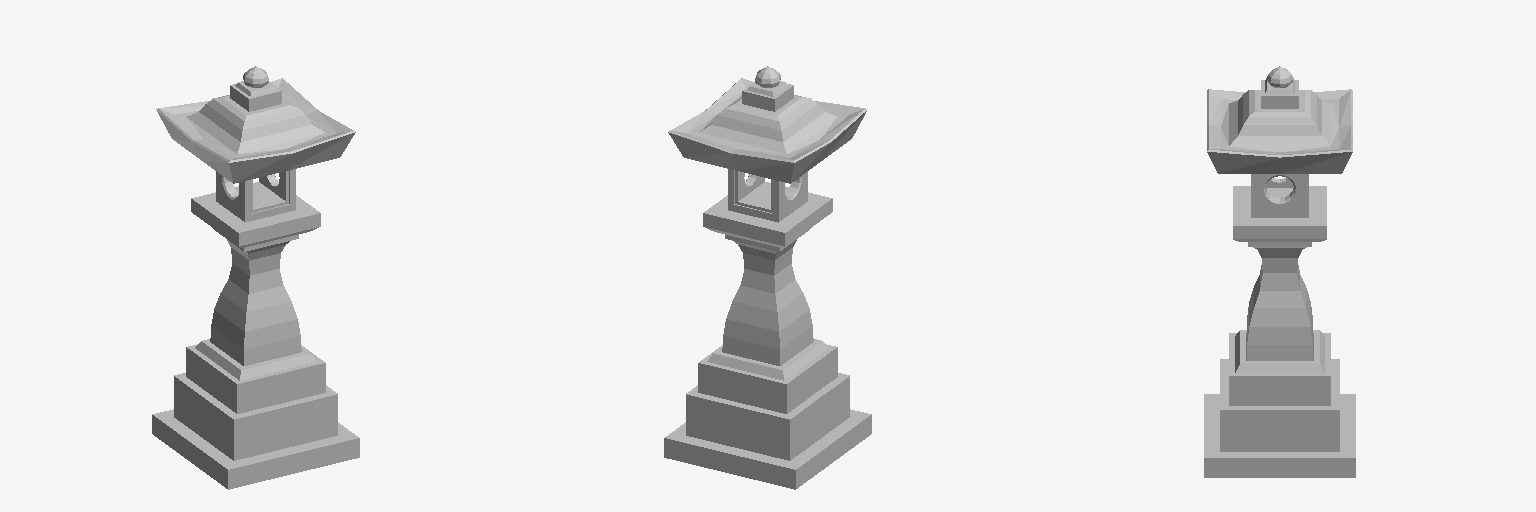
The model's file is lantern.obj.
3 renders of one model, left to right at view 1: azimuth 30°, elevation 25°; view 2: azimuth 150°, elevation 25°; view 3: azimuth 270°, elevation 25°, orthographic.
Parts seen in each view (by area): view 1: Tourou_c_low_meshId2_name, Tourou_b_low_meshId1_name; view 2: Tourou_c_low_meshId2_name, Tourou_b_low_meshId1_name; view 3: Tourou_c_low_meshId2_name, Tourou_b_low_meshId1_name.
Part boxes in pixels (x1,y1,x2,y2): Tourou_c_low_meshId2_name: (152,192,359,489); Tourou_b_low_meshId1_name: (156,78,355,222); Tourou_c_low_meshId2_name: (664,192,871,489); Tourou_b_low_meshId1_name: (668,78,867,222); Tourou_c_low_meshId2_name: (1204,186,1355,477); Tourou_b_low_meshId1_name: (1207,79,1352,217).
Bounding box in the file's own units: 0.7238 × 2 × 0.7238.